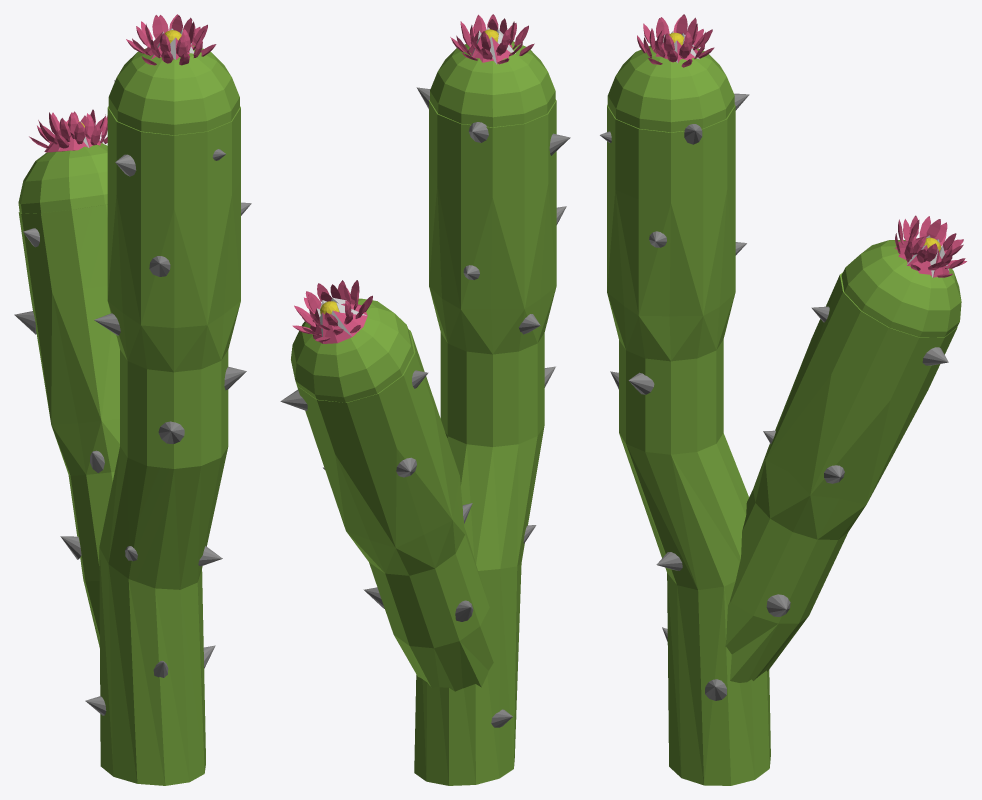
Rendered from modelDraco.gltf.
3 renders of one model, left to right at view 1: azimuth 30°, elevation 25°; view 2: azimuth 150°, elevation 25°; view 3: azimuth 270°, elevation 25°, orthographic. The views are drawn at different scales.
Parts seen in each view (by area): view 1: node_MeshObject1333074304-PolyPaper9; view 2: node_MeshObject1333074304-PolyPaper9; view 3: node_MeshObject1333074304-PolyPaper9.
Boxes of the visible parts, x1=… form: node_MeshObject1333074304-PolyPaper9: x1=14, y1=14, x2=251, y2=785; node_MeshObject1333074304-PolyPaper9: x1=280, y1=14, x2=570, y2=785; node_MeshObject1333074304-PolyPaper9: x1=600, y1=14, x2=966, y2=785.
Size of the model in its own units: 0.139 by 0.6323 by 0.2857.
